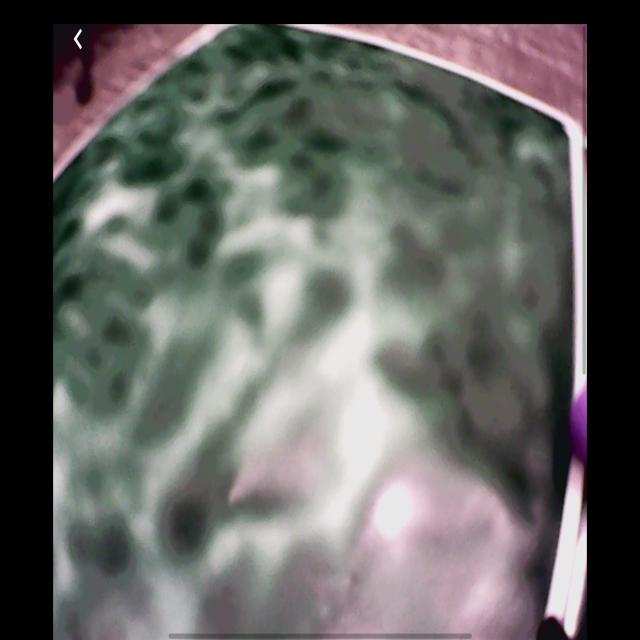ball: (572, 383, 588, 472)
